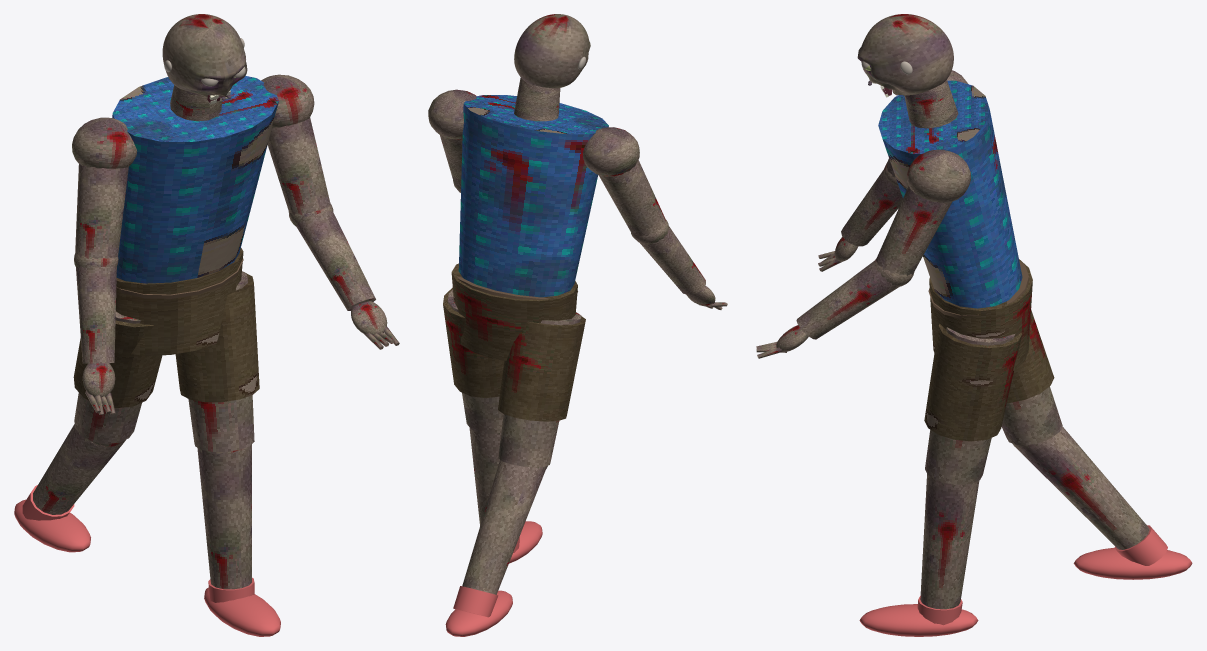
The model's file is Zombie_008.glb.
3 renders of one model, left to right at view 1: azimuth 30°, elevation 25°; view 2: azimuth 150°, elevation 25°; view 3: azimuth 270°, elevation 25°, orthographic. The views are drawn at different scales.
Visible parts, largest first — view 1: Zombie_008, object 16, object 3, object 10, object 4, object 11; view 2: Zombie_008, object 16, object 3; view 3: Zombie_008, object 16, object 10, object 3.
Boxes of the visible parts, left/top/right/bottom form: Zombie_008: left=14, top=74, right=330, bottom=636; object 16: left=162, top=14, right=247, bottom=98; object 3: left=76, top=266, right=116, bottom=363; object 10: left=295, top=210, right=375, bottom=310; object 4: left=82, top=363, right=115, bottom=397; object 11: left=351, top=301, right=387, bottom=334; Zombie_008: left=428, top=78, right=666, bottom=636; object 16: left=514, top=14, right=590, bottom=88; object 3: left=640, top=226, right=705, bottom=294; Zombie_008: left=859, top=70, right=1192, bottom=636; object 16: left=857, top=14, right=953, bottom=95; object 10: left=796, top=260, right=899, bottom=339; object 3: left=841, top=169, right=902, bottom=246.
Bounding box in the file's own units: 0.7485 × 1.61 × 1.07.
15 materials, 5 textured.
